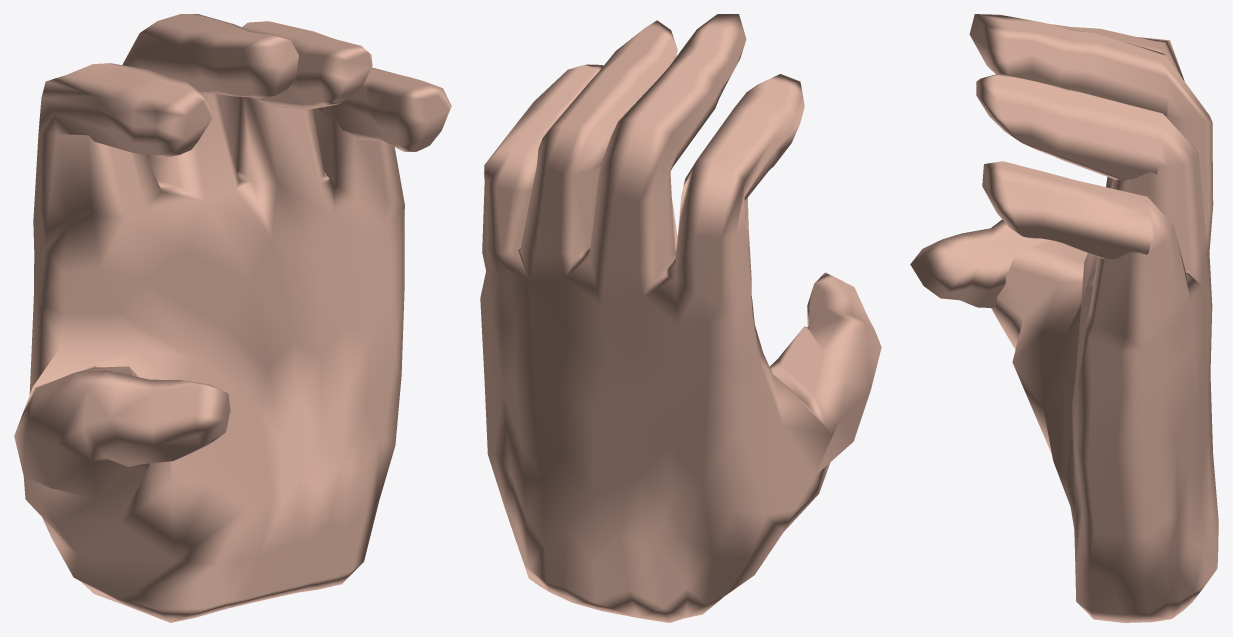
Rendered from ANGULO_ABERTO.obj.
3 renders of one model, left to right at view 1: azimuth 30°, elevation 25°; view 2: azimuth 150°, elevation 25°; view 3: azimuth 270°, elevation 25°, orthographic. The views are drawn at different scales.
Visible parts, largest first — view 1: mao_dir polySurface1; view 2: mao_dir polySurface1; view 3: mao_dir polySurface1.
Part boxes in pixels (bbox=[...]): mao_dir polySurface1: bbox=[14, 14, 451, 622]; mao_dir polySurface1: bbox=[480, 14, 881, 622]; mao_dir polySurface1: bbox=[910, 14, 1218, 622].
Size of the model in its own units: 135 by 202 by 103.
